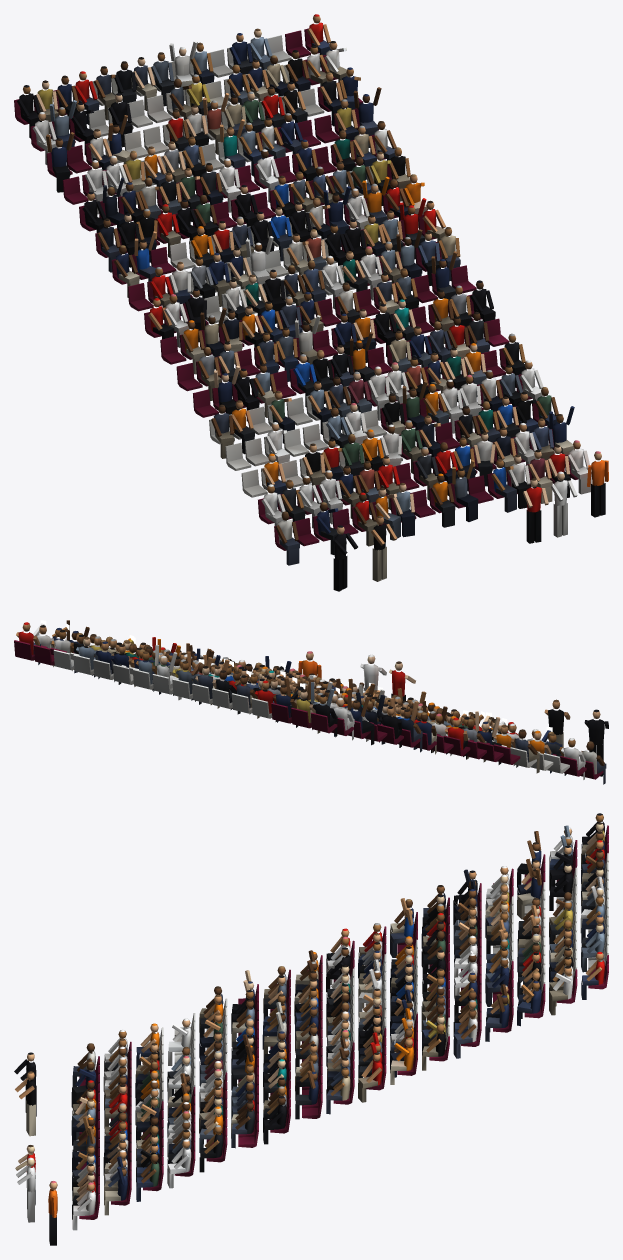
The model's file is stand_T2_kit_3.glb.
3 views of the same model, one above another, from view 1: azimuth 30°, elevation 25°; view 2: azimuth 150°, elevation 25°; view 3: azimuth 270°, elevation 25° (orthographic). The views are drawn at different scales.
Visible parts, largest first — view 1: kit_3; view 2: kit_3; view 3: kit_3.
Boxes of the visible parts, x1,y1,x2,y2 form: kit_3: [14, 14, 608, 591]; kit_3: [14, 620, 608, 784]; kit_3: [14, 813, 608, 1245].
Bounding box in the file's own units: 9 × 8.21 × 14.96.
